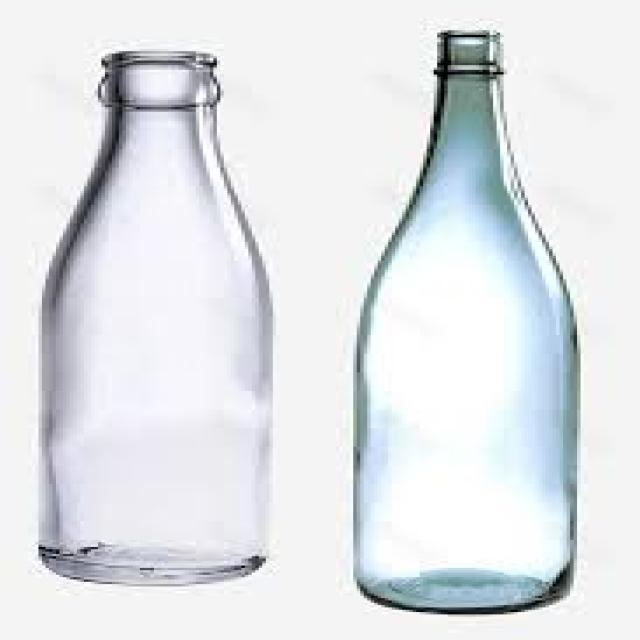glass: (346, 28, 574, 614), (35, 49, 266, 582)
